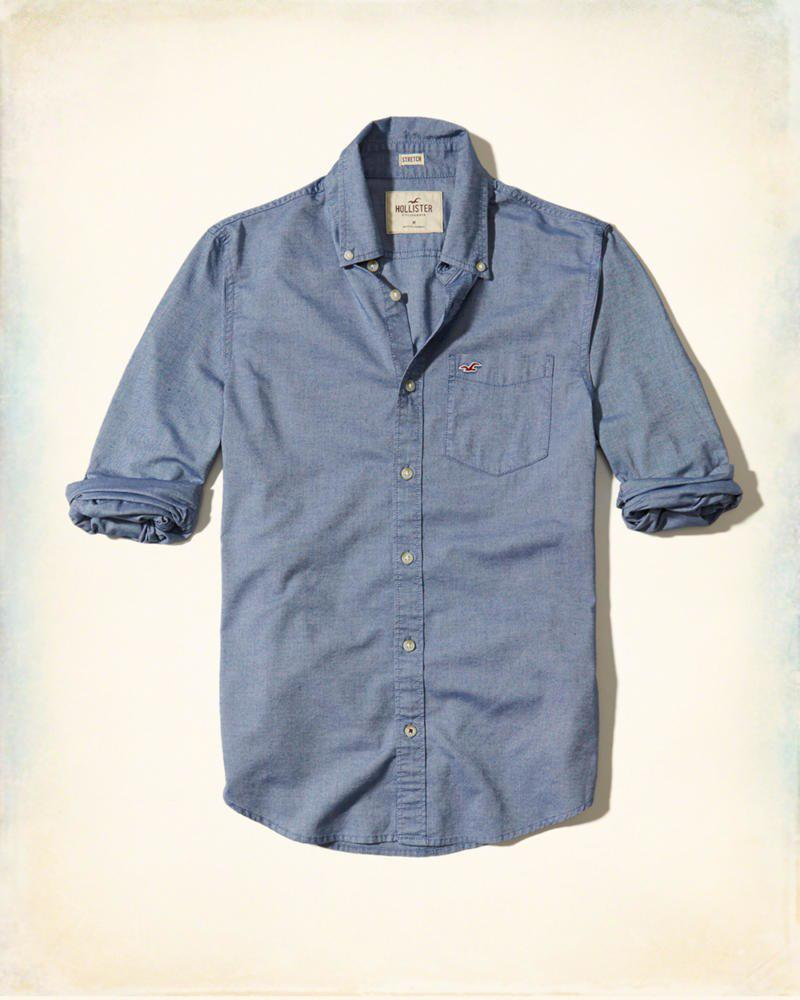teeshirt: (73, 115, 739, 859)
